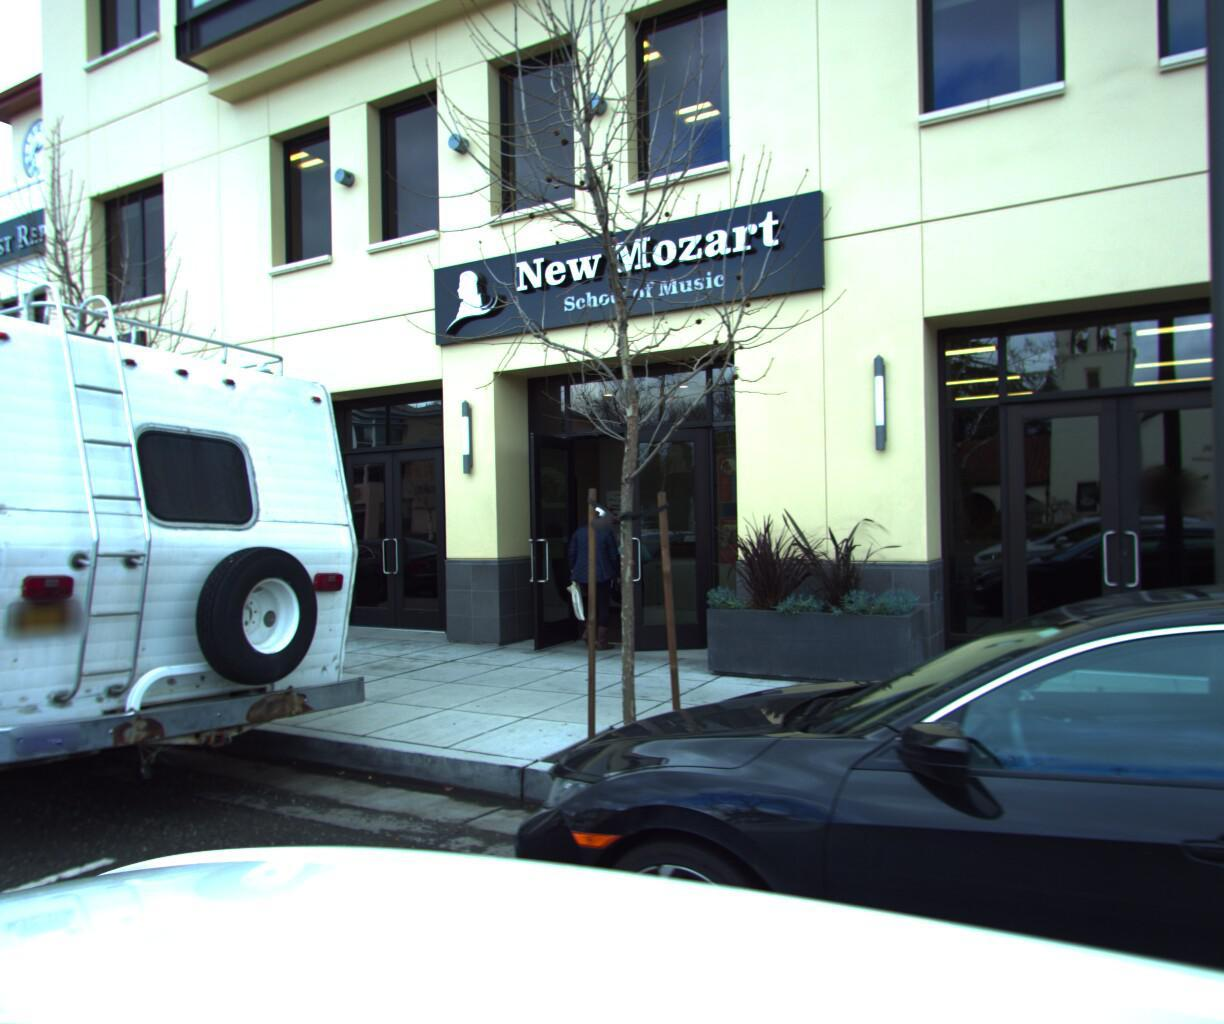car: (421, 536, 1224, 1024), (0, 208, 397, 930)
